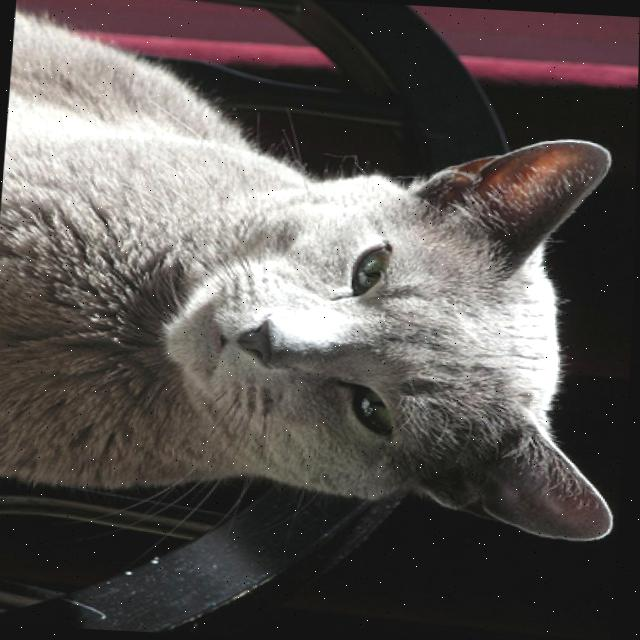Russian Blue: (0, 1, 640, 544)
